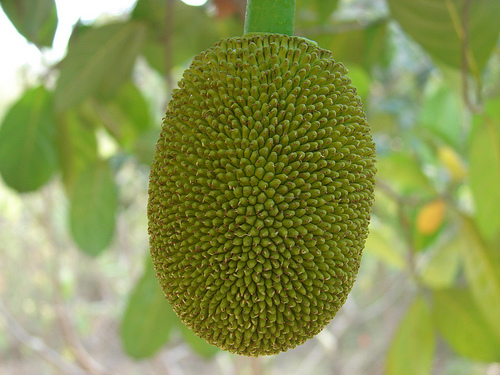jackfruit: (145, 32, 376, 355)
